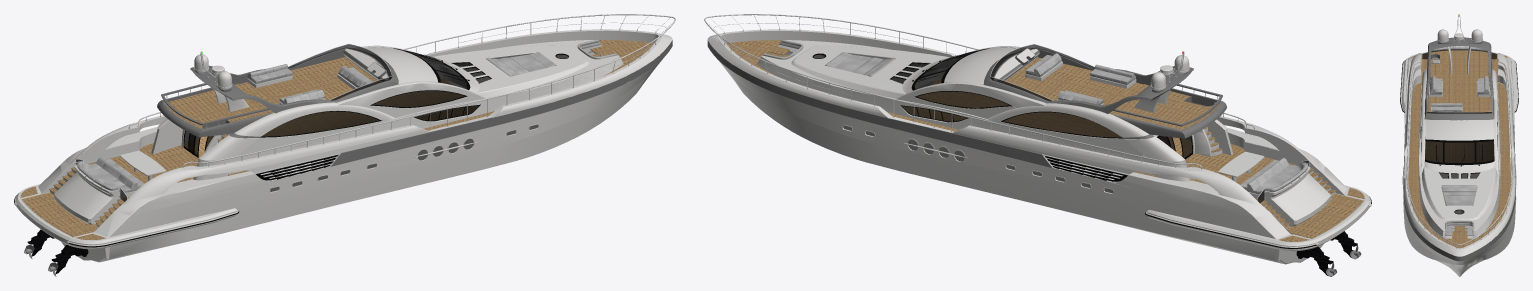
The model's file is Superyacht.fbx.
3 renders of one model, left to right at view 1: azimuth 30°, elevation 25°; view 2: azimuth 150°, elevation 25°; view 3: azimuth 270°, elevation 25°, orthographic. The views are drawn at different scales.
Parts seen in each view (by area): view 1: SM_Superyacht_110m, SM_Superyacht_Glass; view 2: SM_Superyacht_110m, SM_Superyacht_Glass; view 3: SM_Superyacht_110m, SM_Superyacht_Glass, SM_platform_door.
Part boxes in pixels (x1=…): SM_Superyacht_110m: x1=14, y1=14, x2=675, y2=273; SM_Superyacht_Glass: x1=184, y1=44, x2=567, y2=191; SM_Superyacht_110m: x1=704, y1=14, x2=1371, y2=275; SM_Superyacht_Glass: x1=813, y1=44, x2=1192, y2=193; SM_Superyacht_110m: x1=1400, y1=14, x2=1518, y2=276; SM_Superyacht_Glass: x1=1421, y1=105, x2=1497, y2=213; SM_platform_door: x1=1422, y1=52, x2=1497, y2=59.
Size of the model in its own units: 12020 by 3186 by 2638.
